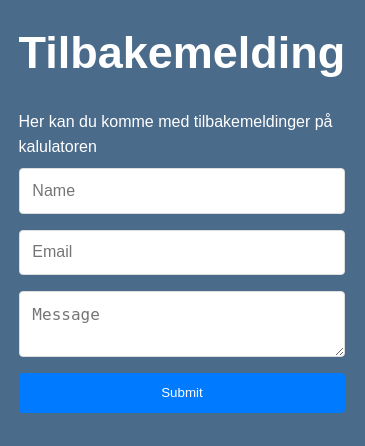
Test: Contact Form Tests › Successful submission scenario - Shows correct response from server
Fill the form with valid data
Type "Tom Test" into the field with placeholder "Name" at (183, 191), box [19,168,346,214]
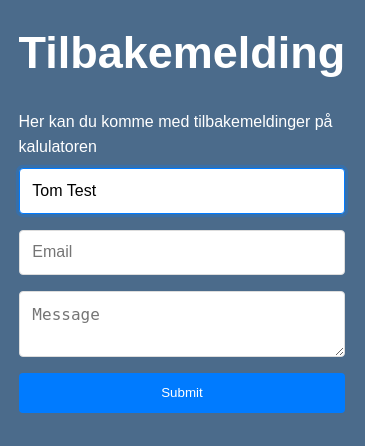
Type "tom@test.com" into the field with placeholder "Email" at (183, 253), box [19,230,346,276]
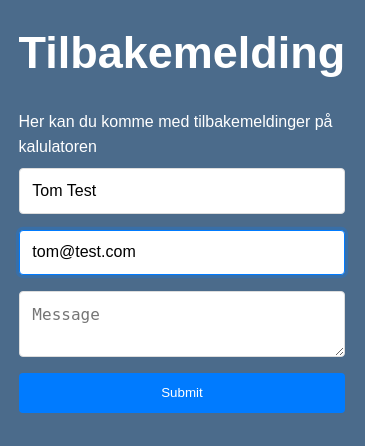
Type "Hallo, dette er en test" into the text box with placeholder "Message" at (183, 324), box [19,291,346,357]
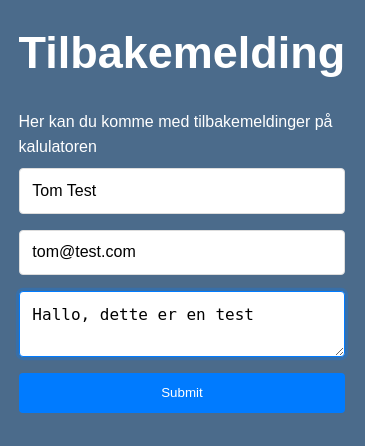
Submit the form
Click the submit button at (183, 394), box [19,373,346,414]
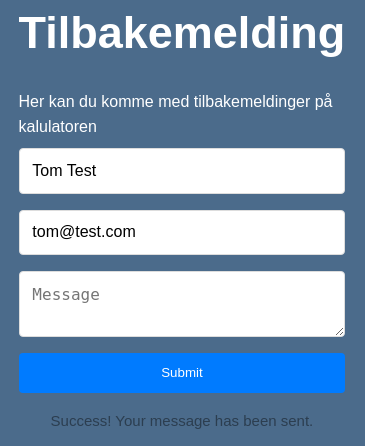
Expected: the text with class "status-message" reads "Success! Your message has been sent.", [51,412,314,429]
